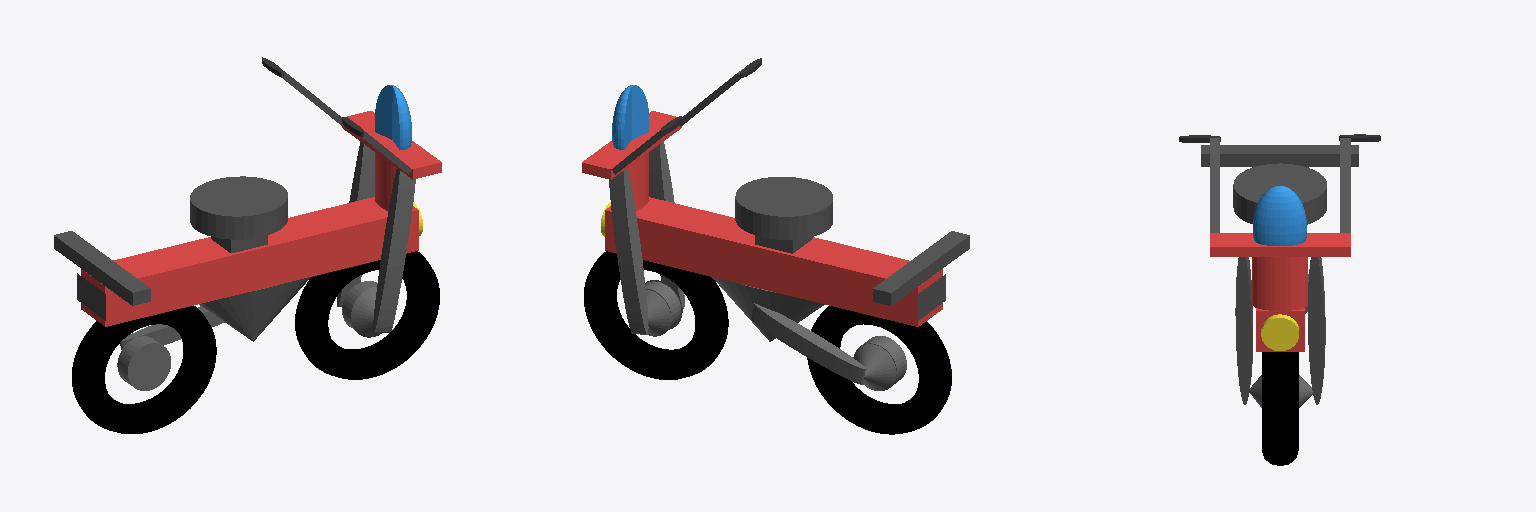
3 views of the same model, side by side, from view 1: azimuth 30°, elevation 25°; view 2: azimuth 150°, elevation 25°; view 3: azimuth 270°, elevation 25° (orthographic).
Visible parts, largest first — view 1: moto; view 2: moto; view 3: moto.
Part boxes in pixels (bbox=[...]): moto: bbox=[54, 57, 441, 433]; moto: bbox=[582, 58, 969, 434]; moto: bbox=[1179, 134, 1380, 465].
Bounding box in the file's own units: 0.8436 × 0.6557 × 0.4058.
Materials: 1 (1 with a texture image).